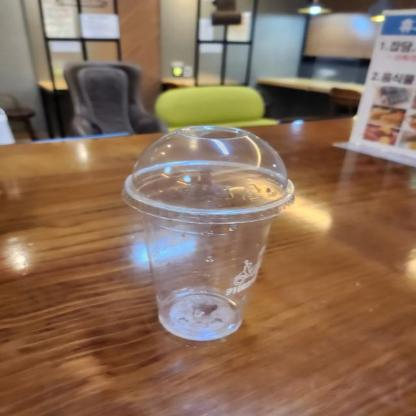Plastic Cup: (122, 120, 296, 338)
